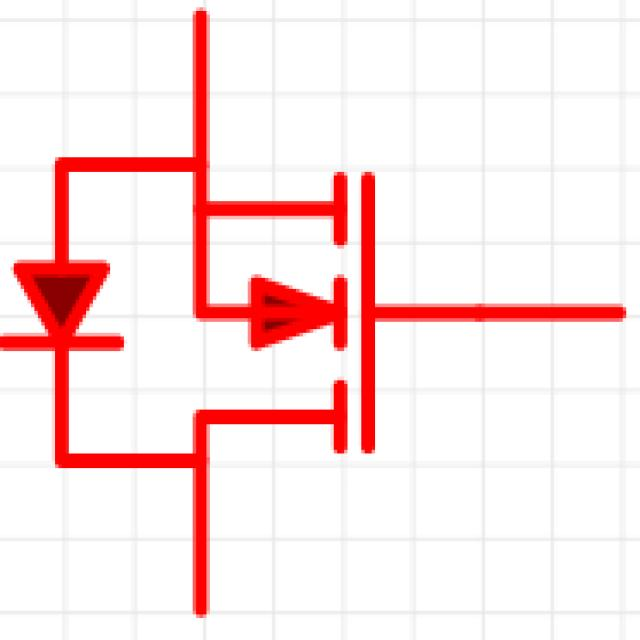nmos: (6, 1, 591, 626)
